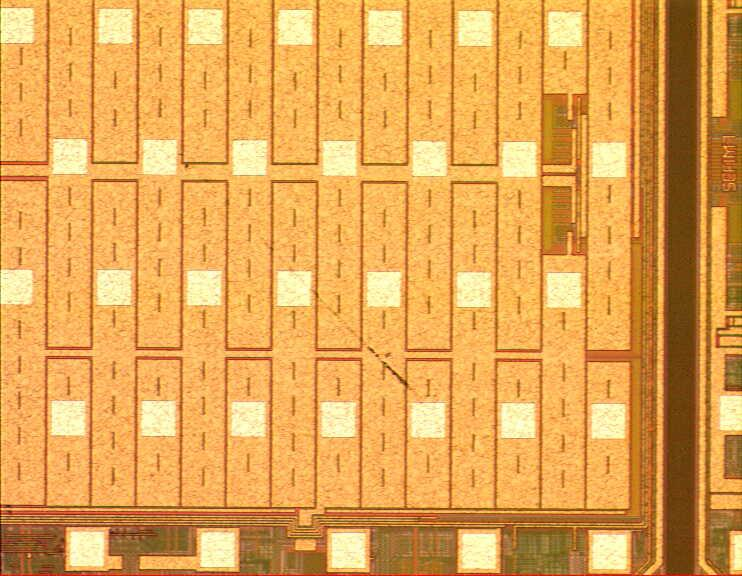SCRATCH: (116, 101, 430, 407)
